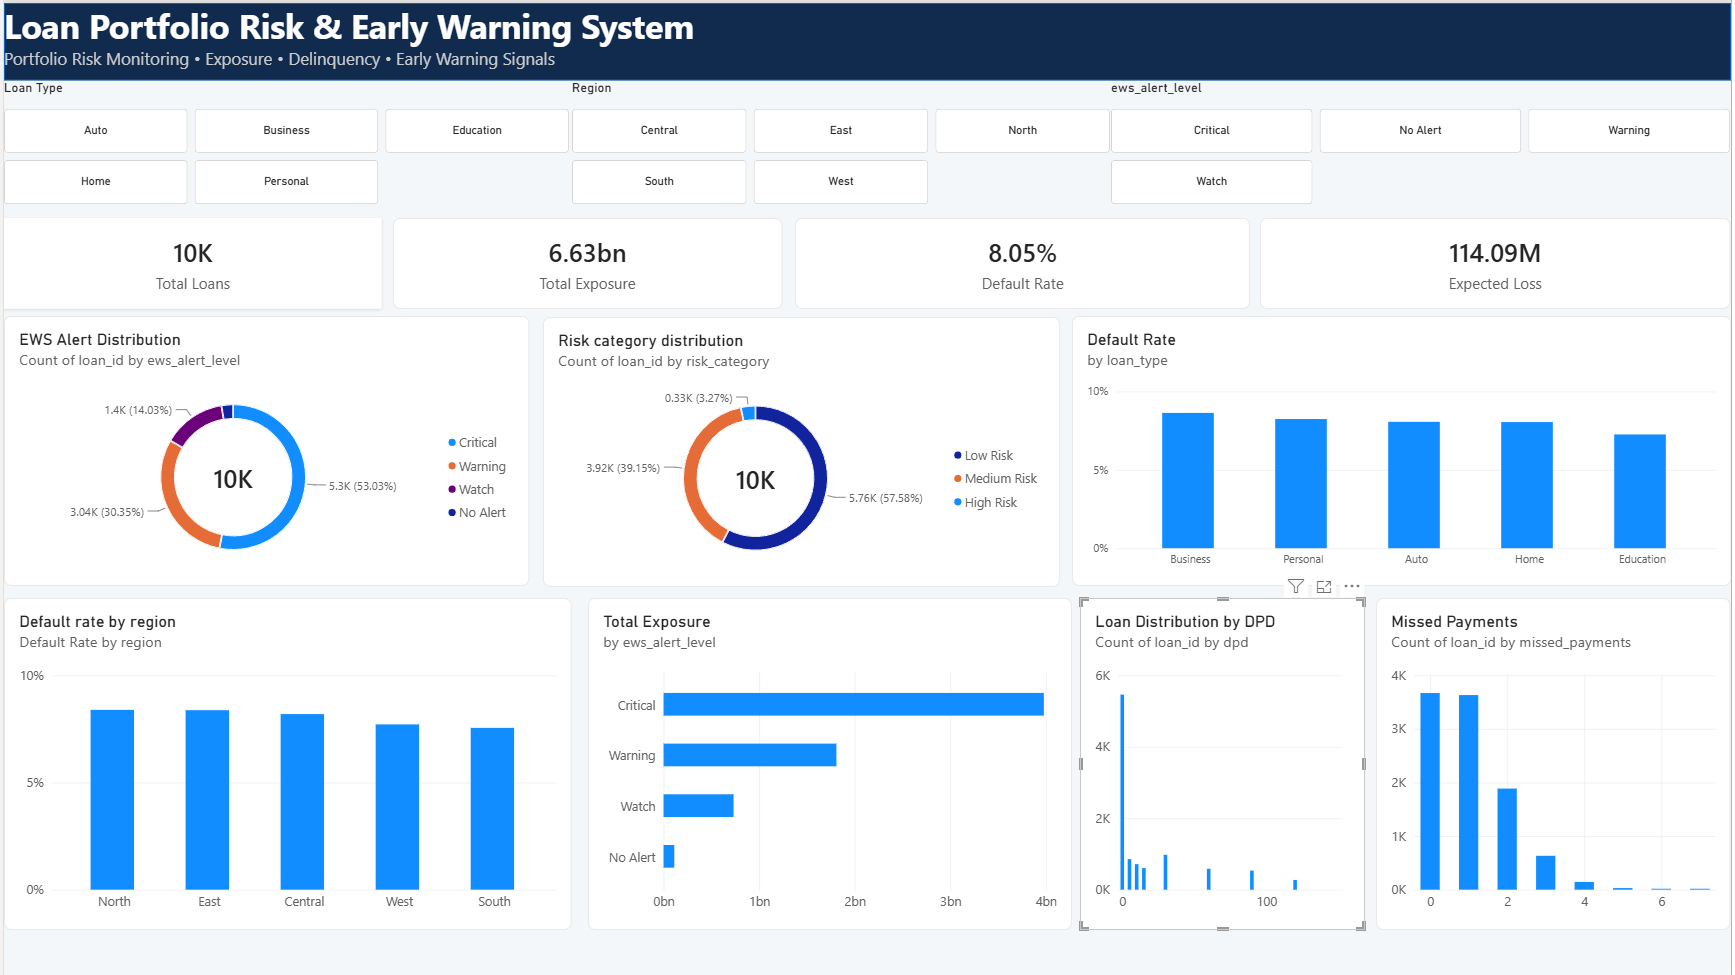

What the dashboard file says about the page in this screenshot:
{"tool":"powerbi","page":{"name":"Page 1","canvas":[1920,1080],"ordinal":0},"visuals":[{"type":"shape","box":[0,0,1920,1079.5],"z":0},{"type":"shape","box":[0,0,1920,86.1],"z":1000},{"type":"textbox","box":[0,0,817.8,86.1],"z":2000},{"type":"columnChart","title":"Default rate by region","fields":{"Category":["ews_alerts.region"],"Y":["ews_alerts.Default Rate"]},"box":[0,661.5,630.9,369.3],"z":3000},{"type":"advancedSlicerVisual","title":"Region","fields":{"Values":["ews_alerts.region"]},"box":[630.9,86.1,599.2,139.3],"z":4000},{"type":"advancedSlicerVisual","fields":{"Values":["ews_alerts.ews_alert_level"]},"box":[1230.2,86.1,689.8,139.3],"z":5000},{"type":"card","fields":{"Values":["ews_alerts.Total Loans"]},"box":[0,239,420.2,100.8],"z":6000},{"type":"card","fields":{"Values":["ews_alerts.Total Exposure"]},"box":[432.7,239,432.7,100.8],"z":7000},{"type":"card","fields":{"Values":["ews_alerts.Default Rate"]},"box":[879,239,506.3,100.8],"z":8000},{"type":"card","fields":{"Values":["ews_alerts.Expected Loss"]},"box":[1396.7,239,523.3,100.8],"z":9000},{"type":"donutChart","title":"EWS Alert Distribution","fields":{"Category":["ews_alerts.ews_alert_level"],"Y":["CountNonNull(ews_alerts.loan_id)"]},"box":[0,347.8,584.5,300.2],"z":10000},{"type":"donutChart","title":"Risk category distribution","fields":{"Category":["ews_alerts.risk_category"],"Y":["CountNonNull(ews_alerts.loan_id)"]},"box":[599.2,348.9,575.4,300.2],"z":11000},{"type":"clusteredColumnChart","fields":{"Category":["ews_alerts.loan_type"],"Y":["ews_alerts.Default Rate"]},"box":[1187.1,347.8,732.9,300.2],"z":12000},{"type":"barChart","fields":{"Category":["ews_alerts.ews_alert_level"],"Y":["ews_alerts.Total Exposure"]},"box":[649.1,661.5,538.1,369.3],"z":13000},{"type":"advancedSlicerVisual","title":"Loan Type","fields":{"Values":["ews_alerts.loan_type"]},"box":[0,86.1,630.9,139.3],"z":14000},{"type":"columnChart","title":"Loan Distribution by DPD","fields":{"Category":["ews_alerts.dpd"],"Y":["CountNonNull(ews_alerts.loan_id)"]},"box":[1196.2,661.5,317.2,369.3],"z":15000},{"type":"clusteredColumnChart","title":"Missed Payments","fields":{"Category":["ews_alerts.missed_payments"],"Y":["CountNonNull(ews_alerts.loan_id)"]},"box":[1525.8,661.5,394.2,369.3],"z":16000}]}

Visuals, with their boxes in screenshot pixels (x1, y1, x2, y2), scaled from the page's 1920x1080 canvas onto the 1735x975 screenshot:
shape: bbox=(0, 0, 1734, 974)
shape: bbox=(0, 0, 1734, 78)
textbox: bbox=(0, 0, 739, 78)
"Default rate by region" columnChart: bbox=(0, 597, 570, 931)
"Region" advancedSlicerVisual: bbox=(570, 78, 1112, 203)
advancedSlicerVisual - ews_alerts.ews_alert_level: bbox=(1112, 78, 1734, 203)
card - ews_alerts.Total Loans: bbox=(0, 216, 380, 307)
card - ews_alerts.Total Exposure: bbox=(391, 216, 782, 307)
card - ews_alerts.Default Rate: bbox=(794, 216, 1252, 307)
card - ews_alerts.Expected Loss: bbox=(1262, 216, 1734, 307)
"EWS Alert Distribution" donutChart: bbox=(0, 314, 528, 585)
"Risk category distribution" donutChart: bbox=(541, 315, 1061, 586)
clusteredColumnChart - ews_alerts.loan_type x ews_alerts.Default Rate: bbox=(1073, 314, 1734, 585)
barChart - ews_alerts.ews_alert_level x ews_alerts.Total Exposure: bbox=(587, 597, 1073, 931)
"Loan Type" advancedSlicerVisual: bbox=(0, 78, 570, 203)
"Loan Distribution by DPD" columnChart: bbox=(1081, 597, 1368, 931)
"Missed Payments" clusteredColumnChart: bbox=(1379, 597, 1734, 931)
